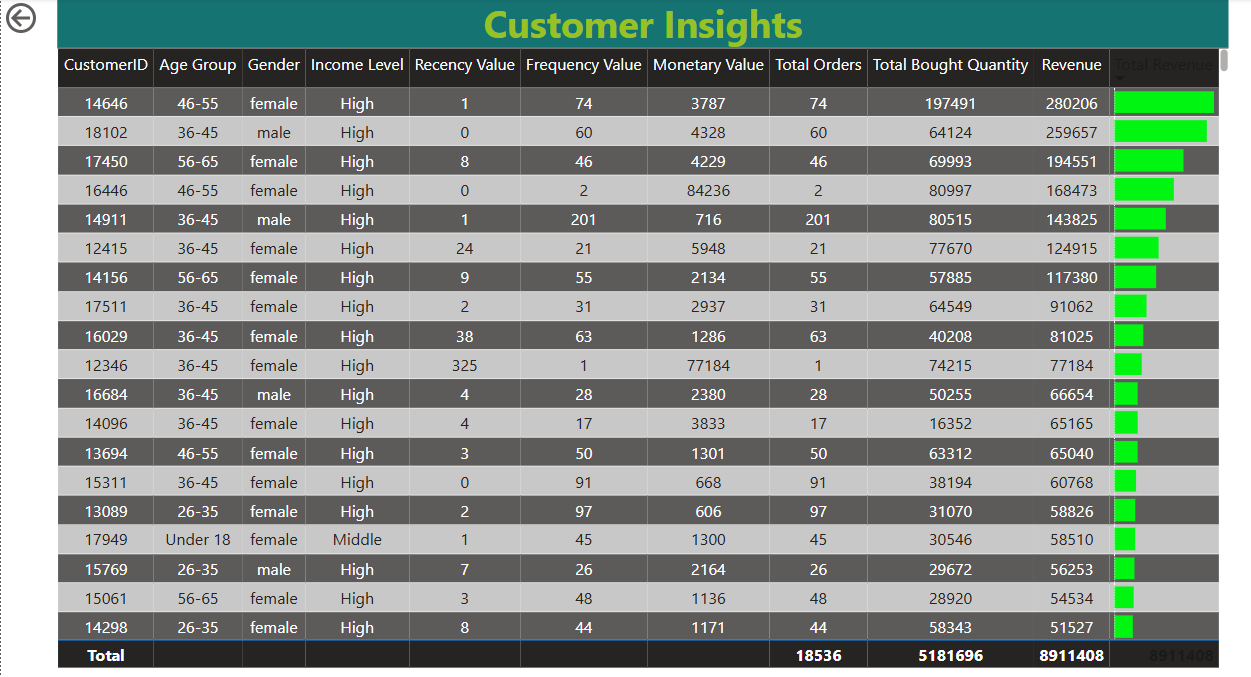

What the dashboard file says about the page in this screenshot:
{"tool":"powerbi","page":{"name":"RFM Segmentation","canvas":[1280,720],"ordinal":4},"visuals":[{"type":"tableEx","title":"Customer Insights","fields":{"Values":["FactSales.CustomerID","DimCustomer.Age Group","DimCustomer.Gender","DimCustomer.Income Level","RFM TABLE.R Value","RFM TABLE.F Value","RFM TABLE.M Value","_Measures.Total Orders","_Measures.Total Sold Quantity","_Measures.Revenue Bars","_Measures.Total Revenue"]},"box":[56,71.6,1165.6,585.9],"z":0},{"type":"actionButton","box":[0,0,56,39.8],"z":1000},{"type":"card","fields":{"Values":["Min(RFM Segment.Customer Segment)"]},"box":[56,2.5,1165.6,74.6],"z":2000},{"type":"textbox","box":[177.9,669.3,923,41.1],"z":3000}]}

Visuals, with their boxes on the page's 1280x720 design canvas (x1, y1, x2, y2). These are canvas units, not pixel positions in the 1251x677 screenshot, which may show the page scaled, cropped or inside an application window:
"Customer Insights" tableEx: bbox=[56, 72, 1222, 658]
actionButton: bbox=[0, 0, 56, 40]
card - Min(RFM Segment.Customer Segment): bbox=[56, 2, 1222, 77]
textbox: bbox=[178, 669, 1101, 710]
